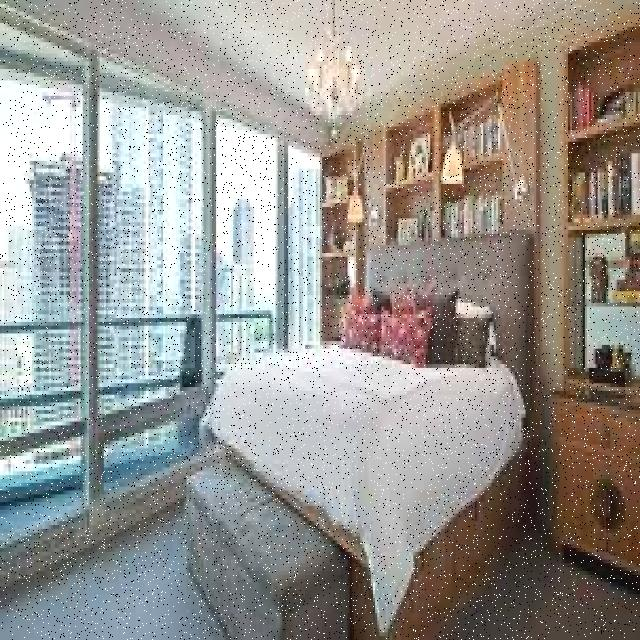bed: (199, 273, 519, 482)
